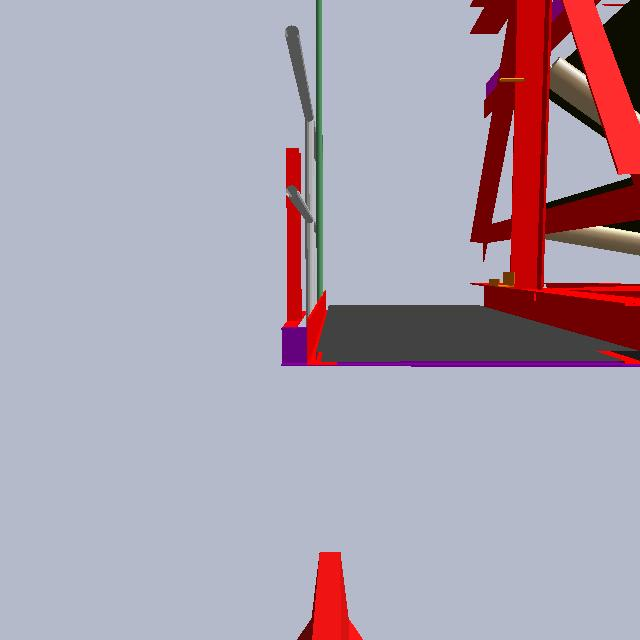Poste: (309, 1, 336, 337)
Soporte: (272, 139, 335, 383)
